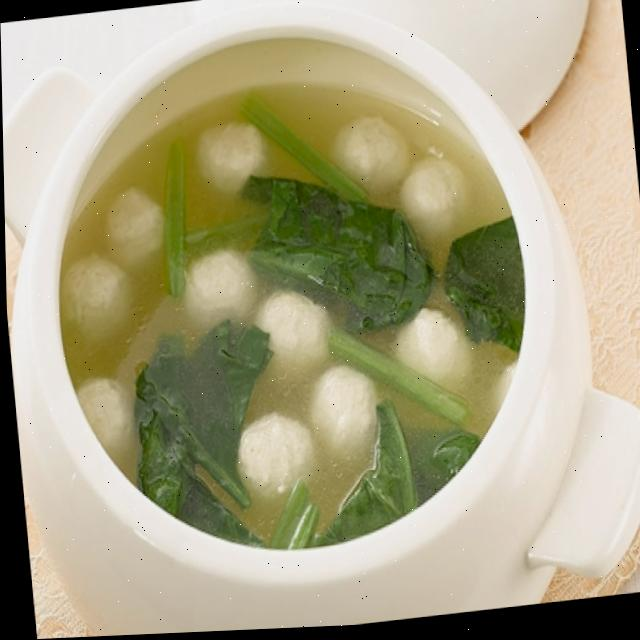熟制海鲜: (0, 7, 592, 632)
